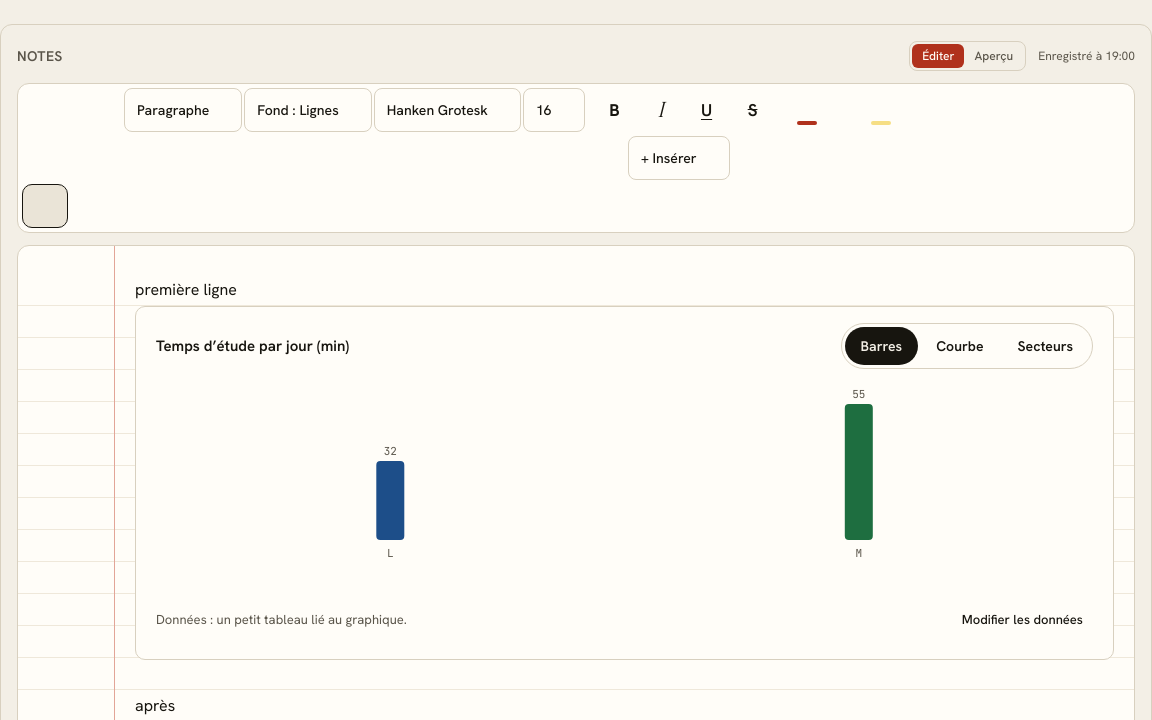
Test: charts in a note (YC-54) › in « Aperçu », the title and the drawing, nothing to change
The width and height of the screenshot is (1152, 720).
Click the button "Aperçu": (994, 56) [964,44,1023,68]
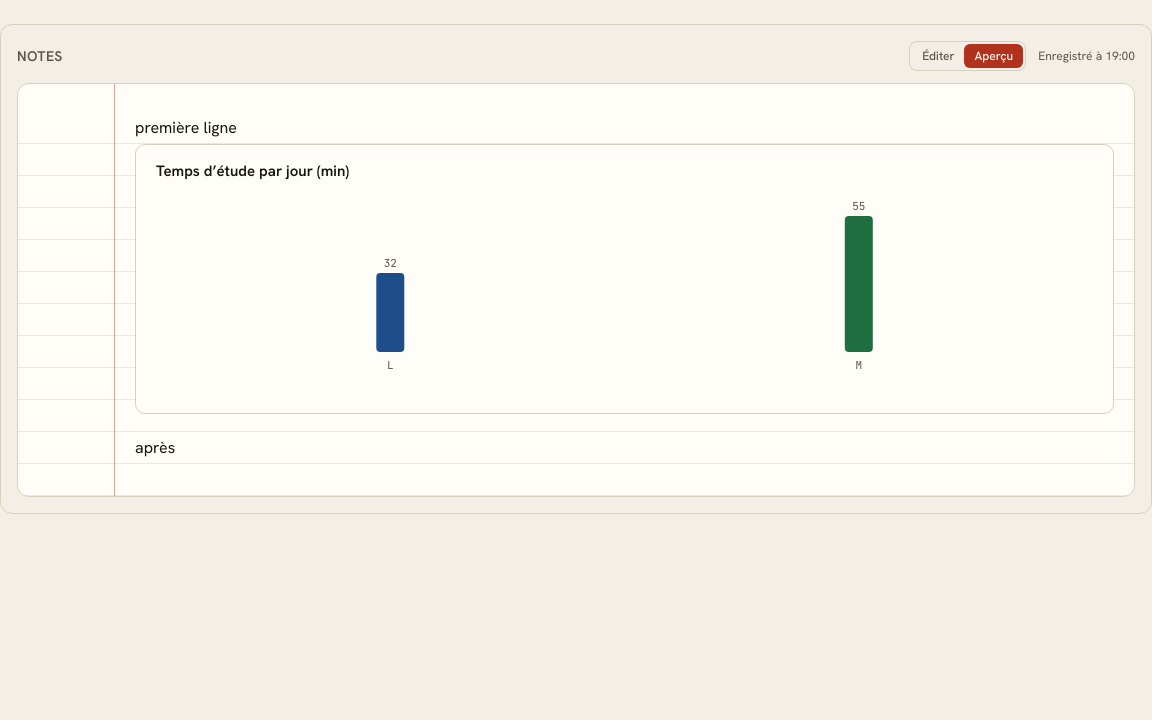
Expected: the text "Temps d’étude par jour (min)" is shown, [156,161,349,181]
Expected: the button "Modifier les données" is gone
